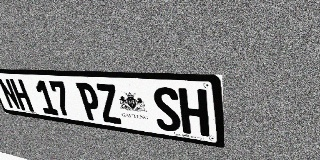1: (33, 80, 59, 115)
7: (47, 81, 74, 118)
H: (178, 88, 209, 137), (9, 79, 34, 112)
N: (0, 78, 21, 110)
P: (75, 82, 103, 122)
S: (151, 86, 182, 133)
Z: (94, 83, 123, 125)
